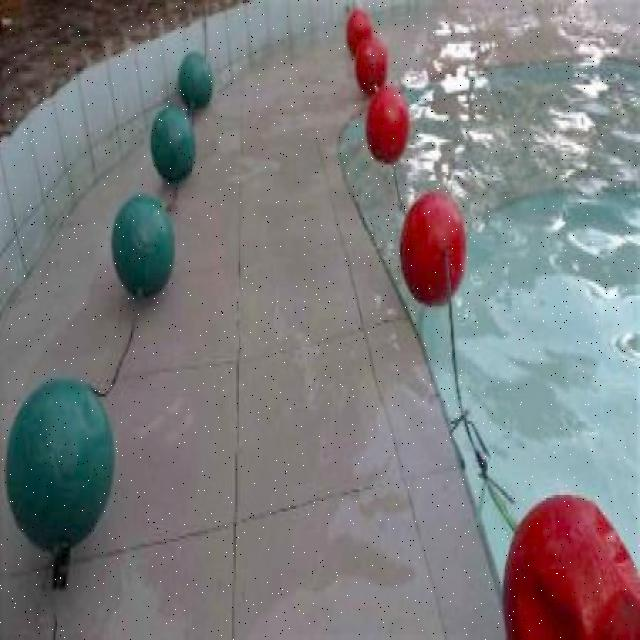buoy: (504, 489, 638, 637), (5, 374, 114, 550), (398, 187, 470, 316), (111, 194, 175, 298), (365, 83, 410, 163), (149, 104, 195, 180), (353, 26, 388, 95), (178, 49, 213, 110)
